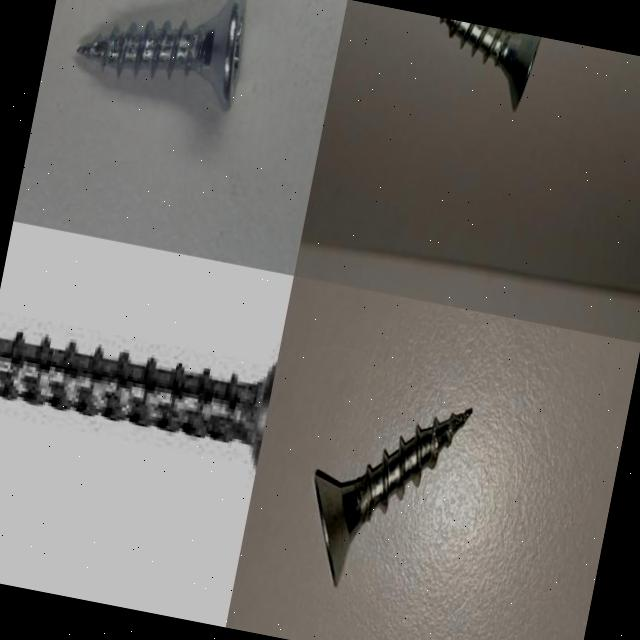Screw: (0, 329, 277, 467), (313, 410, 472, 588), (77, 0, 246, 113), (439, 17, 542, 113)
